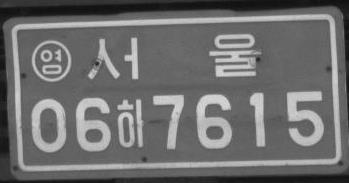0: (31, 97, 67, 153)
1: (241, 91, 275, 147)
5: (285, 89, 324, 147)
6: (195, 93, 233, 150), (74, 96, 111, 153)
7: (152, 93, 185, 151)
서울_D: (86, 32, 260, 81)
영: (31, 39, 71, 83)
하: (117, 98, 145, 147)
